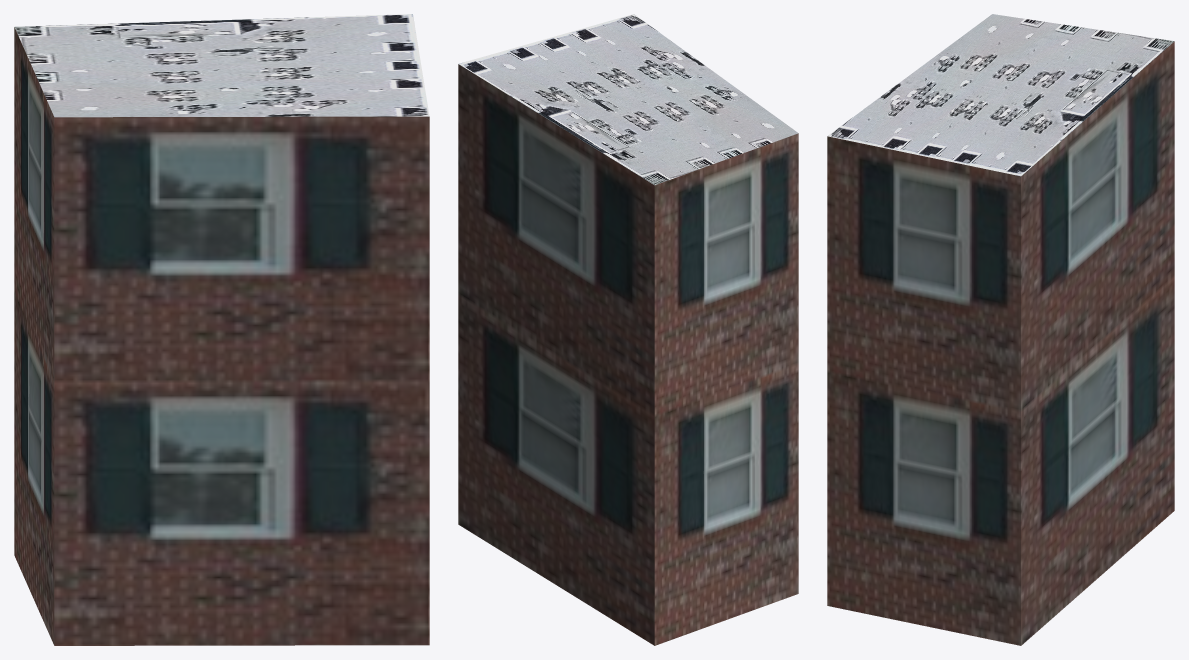
Rendered from ResTex__2378.fbx.
3 views of the same model, side by side, from view 1: azimuth 30°, elevation 25°; view 2: azimuth 150°, elevation 25°; view 3: azimuth 270°, elevation 25° (orthographic). The views are drawn at different scales.
Parts seen in each view (by area): view 1: CityEngineMaterial_14_m, CityEngineMaterial_8_m; view 2: CityEngineMaterial_14_m, CityEngineMaterial_8_m; view 3: CityEngineMaterial_14_m, CityEngineMaterial_8_m.
Part boxes in pixels (x1,y1,x2,y2): CityEngineMaterial_14_m: (14,27,429,645); CityEngineMaterial_8_m: (14,14,429,117); CityEngineMaterial_14_m: (458,64,798,645); CityEngineMaterial_8_m: (459,14,798,185); CityEngineMaterial_14_m: (827,41,1174,645); CityEngineMaterial_8_m: (827,14,1174,176).
Size of the model in its own units: 4.45 by 6 by 4.02.
Materials: 2 (2 with a texture image).
